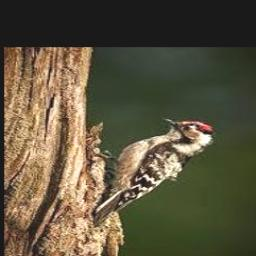Woodpecker: (95, 117, 216, 225)
